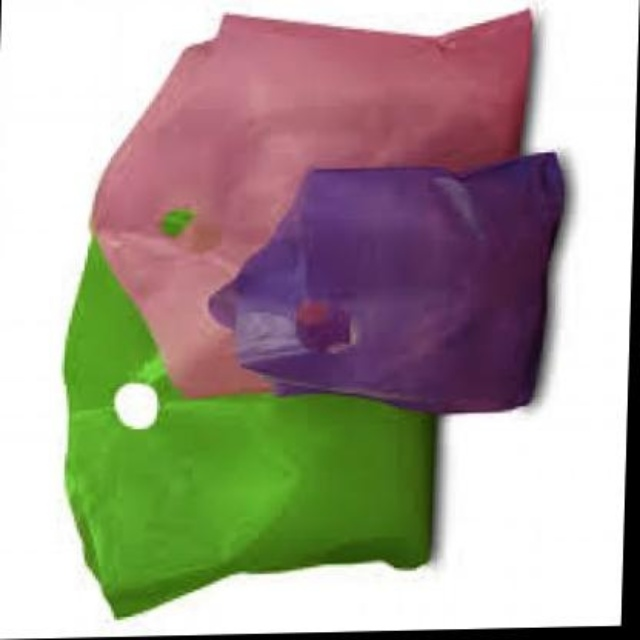trash: (65, 11, 563, 615)
